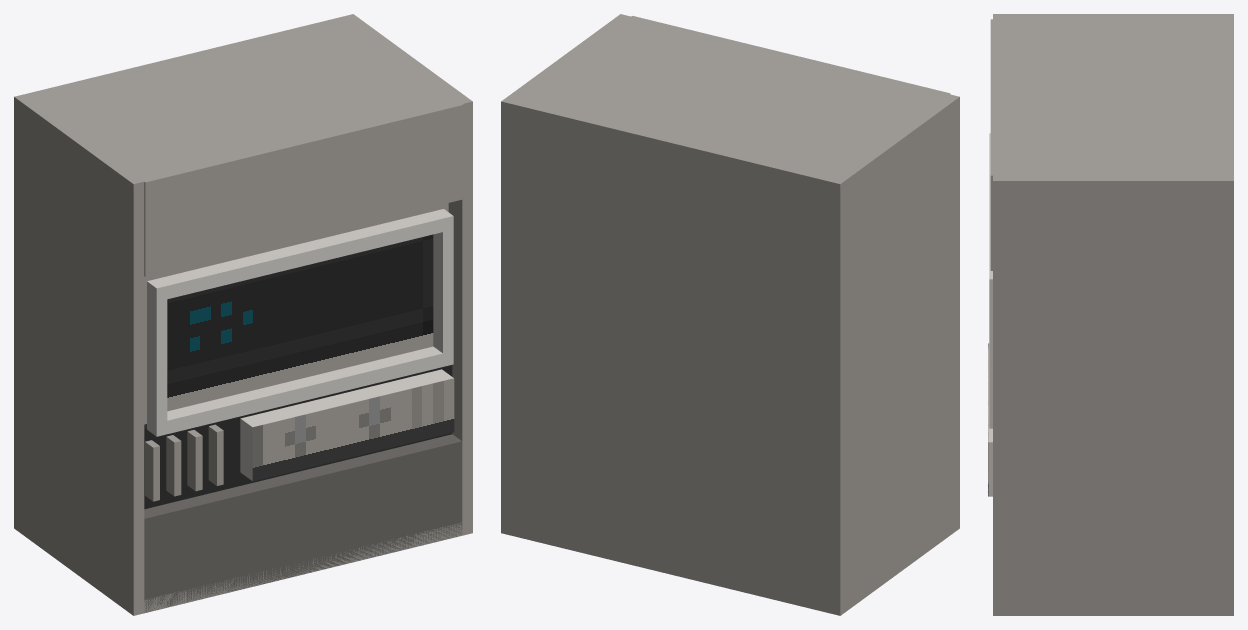
The model's file is CMU3DRMCWhiteSensorComputer2InheritedMiscCloud.glb.
3 views of the same model, side by side, from view 1: azimuth 30°, elevation 25°; view 2: azimuth 150°, elevation 25°; view 3: azimuth 270°, elevation 25° (orthographic).
Parts seen in each view (by area): view 1: full-depth left casing, roof, full-width raised upper hood, bottom closed service casing, wide cyan scanner CRT recessed glass source detail, long lower switch panel source detail, full-depth right casing, wide cyan scanner CRT stepped bezel top, wide cyan scanner CRT stepped bezel bottom, recessed lower ventilation backing, base, long lower switch panel (+8 smaller); view 2: rear cabinet wall, full-depth left casing, roof, full-depth right casing, full-width raised upper hood; view 3: full-depth right casing, roof, full-width raised upper hood, rear cabinet wall, full-depth left casing, long lower switch panel, wide cyan scanner CRT stepped bezel right, wide cyan scanner CRT stepped bezel top.
Part boxes in pixels (x1,y1,x2,y2): full-depth left casing: [14, 94, 144, 615]; roof: [30, 20, 460, 181]; full-width raised upper hood: [125, 90, 463, 276]; bottom closed service casing: [144, 434, 462, 612]; wide cyan scanner CRT recessed glass source detail: [167, 234, 433, 411]; long lower switch panel source detail: [252, 378, 454, 481]; full-depth right casing: [343, 14, 472, 535]; wide cyan scanner CRT stepped bezel top: [147, 209, 453, 301]; wide cyan scanner CRT stepped bezel bottom: [147, 346, 453, 436]; recessed lower ventilation backing: [144, 365, 452, 509]; base: [144, 522, 462, 612]; long lower switch panel: [240, 369, 453, 480]; rear cabinet wall: [511, 99, 834, 613]; full-depth left casing: [829, 94, 959, 615]; roof: [519, 16, 948, 177]; full-depth right casing: [501, 14, 630, 535]; full-width raised upper hood: [604, 16, 950, 94]; full-depth right casing: [993, 175, 1233, 615]; roof: [993, 19, 1223, 175]; full-width raised upper hood: [990, 19, 1048, 270]; rear cabinet wall: [1220, 19, 1233, 175]; full-depth left casing: [993, 14, 1233, 19]; long lower switch panel: [988, 343, 992, 496]; wide cyan scanner CRT stepped bezel right: [989, 292, 992, 415]; wide cyan scanner CRT stepped bezel top: [989, 133, 992, 292].
Size of the model in its own units: 1 by 1.22 by 0.623.
Materials: 7 (2 with a texture image).
